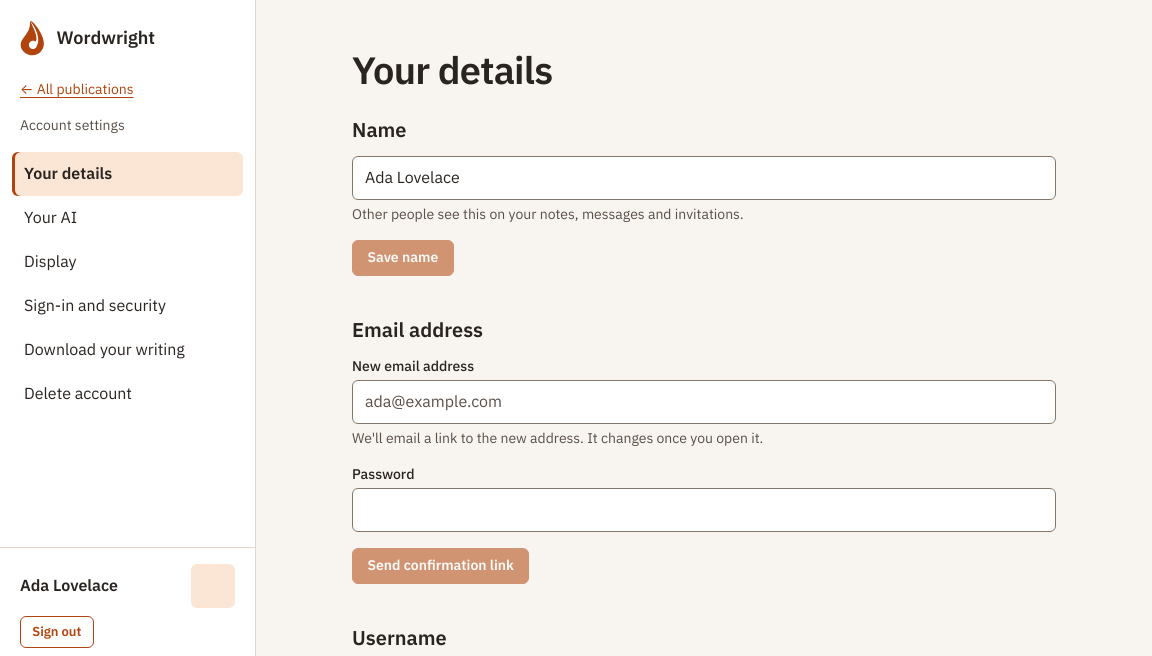
changing your email on the account page › asks for the new address and password, then says where the link went
Step 1. Type " New@Example.com " into the field labelled "New email address" → {"x": 704, "y": 402}, box [352,380,1056,424]
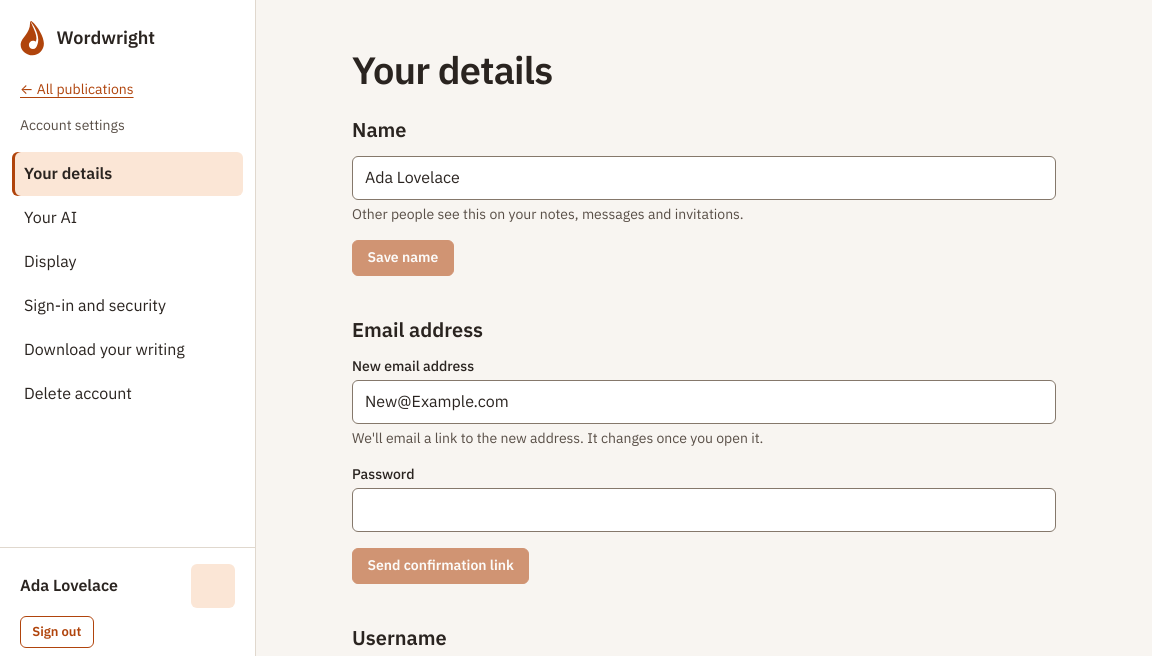
Step 2. Type "my password" into the password field labelled "Password" → {"x": 704, "y": 510}, box [352,488,1056,532]
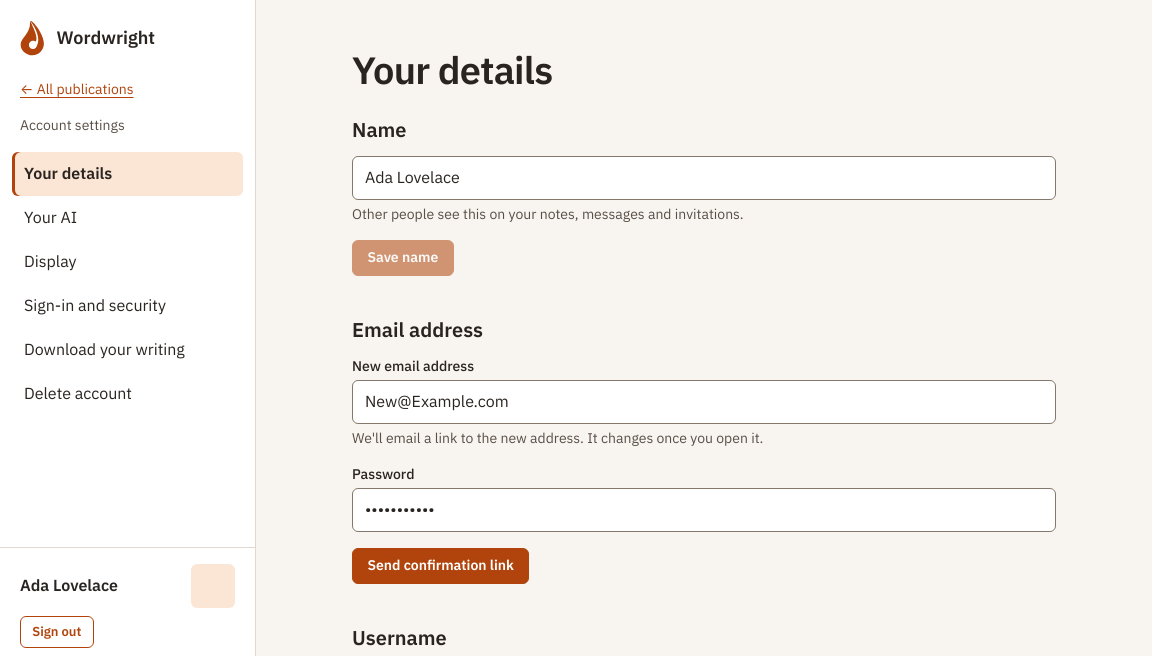
Step 3. Click the button "Send confirmation link" → {"x": 441, "y": 566}, box [352,548,529,584]
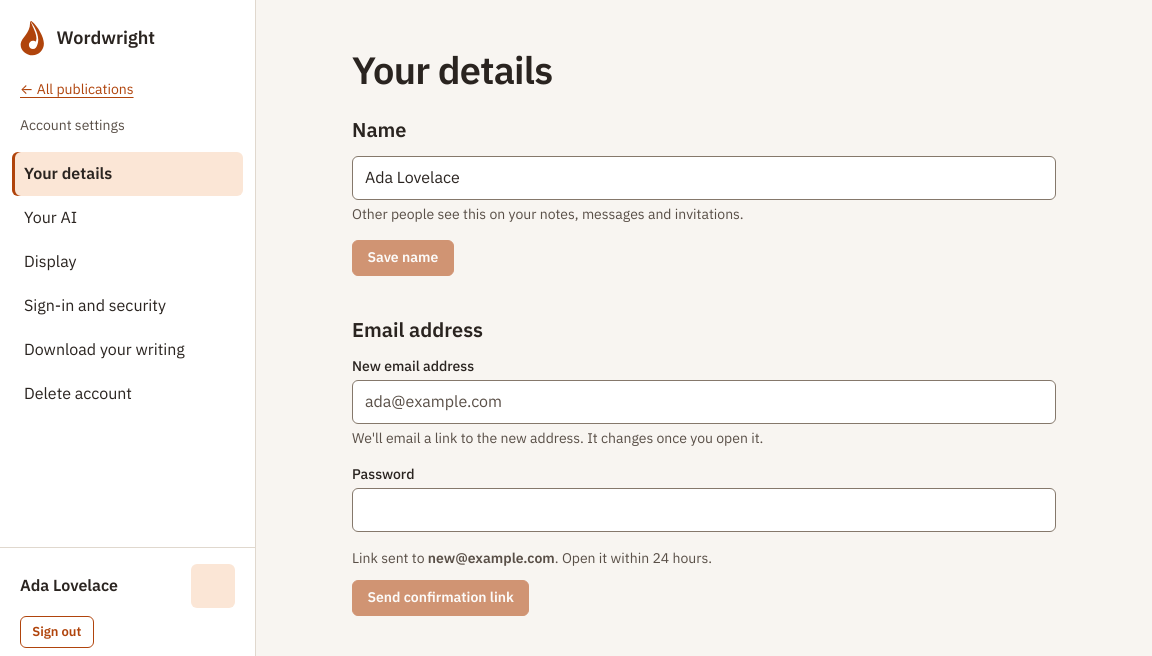
Result: the message shows "new@example.com" at [428,549,555,567]
Result: the field labelled "New email address" is empty at [352,380,1056,424]
